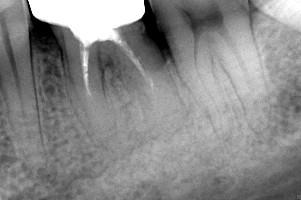Endo-Periodontal Lesion: (98, 53, 115, 76)
